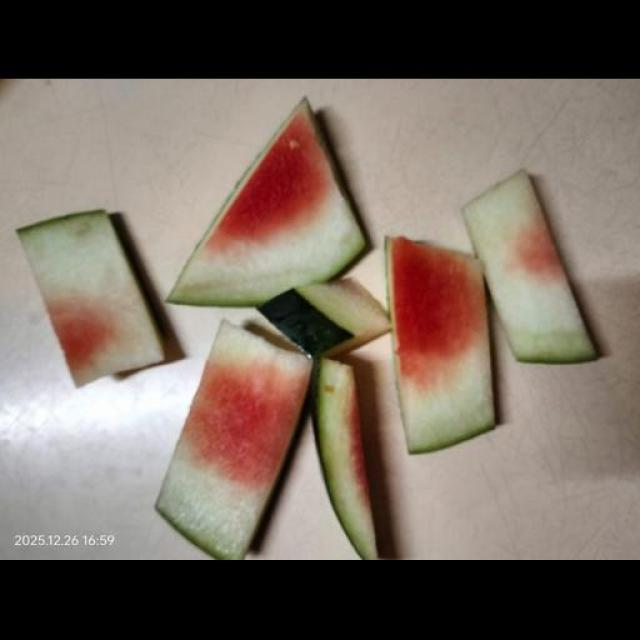organic: (168, 100, 364, 306), (157, 322, 311, 559), (463, 170, 598, 363), (18, 210, 163, 386), (387, 239, 494, 453), (207, 113, 331, 249), (184, 362, 306, 488), (390, 238, 484, 386), (313, 359, 377, 559), (259, 279, 389, 357), (258, 290, 353, 357), (155, 500, 244, 561), (48, 298, 114, 369), (342, 377, 369, 504), (508, 329, 597, 363), (408, 420, 494, 454), (517, 223, 562, 279), (348, 384, 369, 503), (17, 210, 106, 237)
